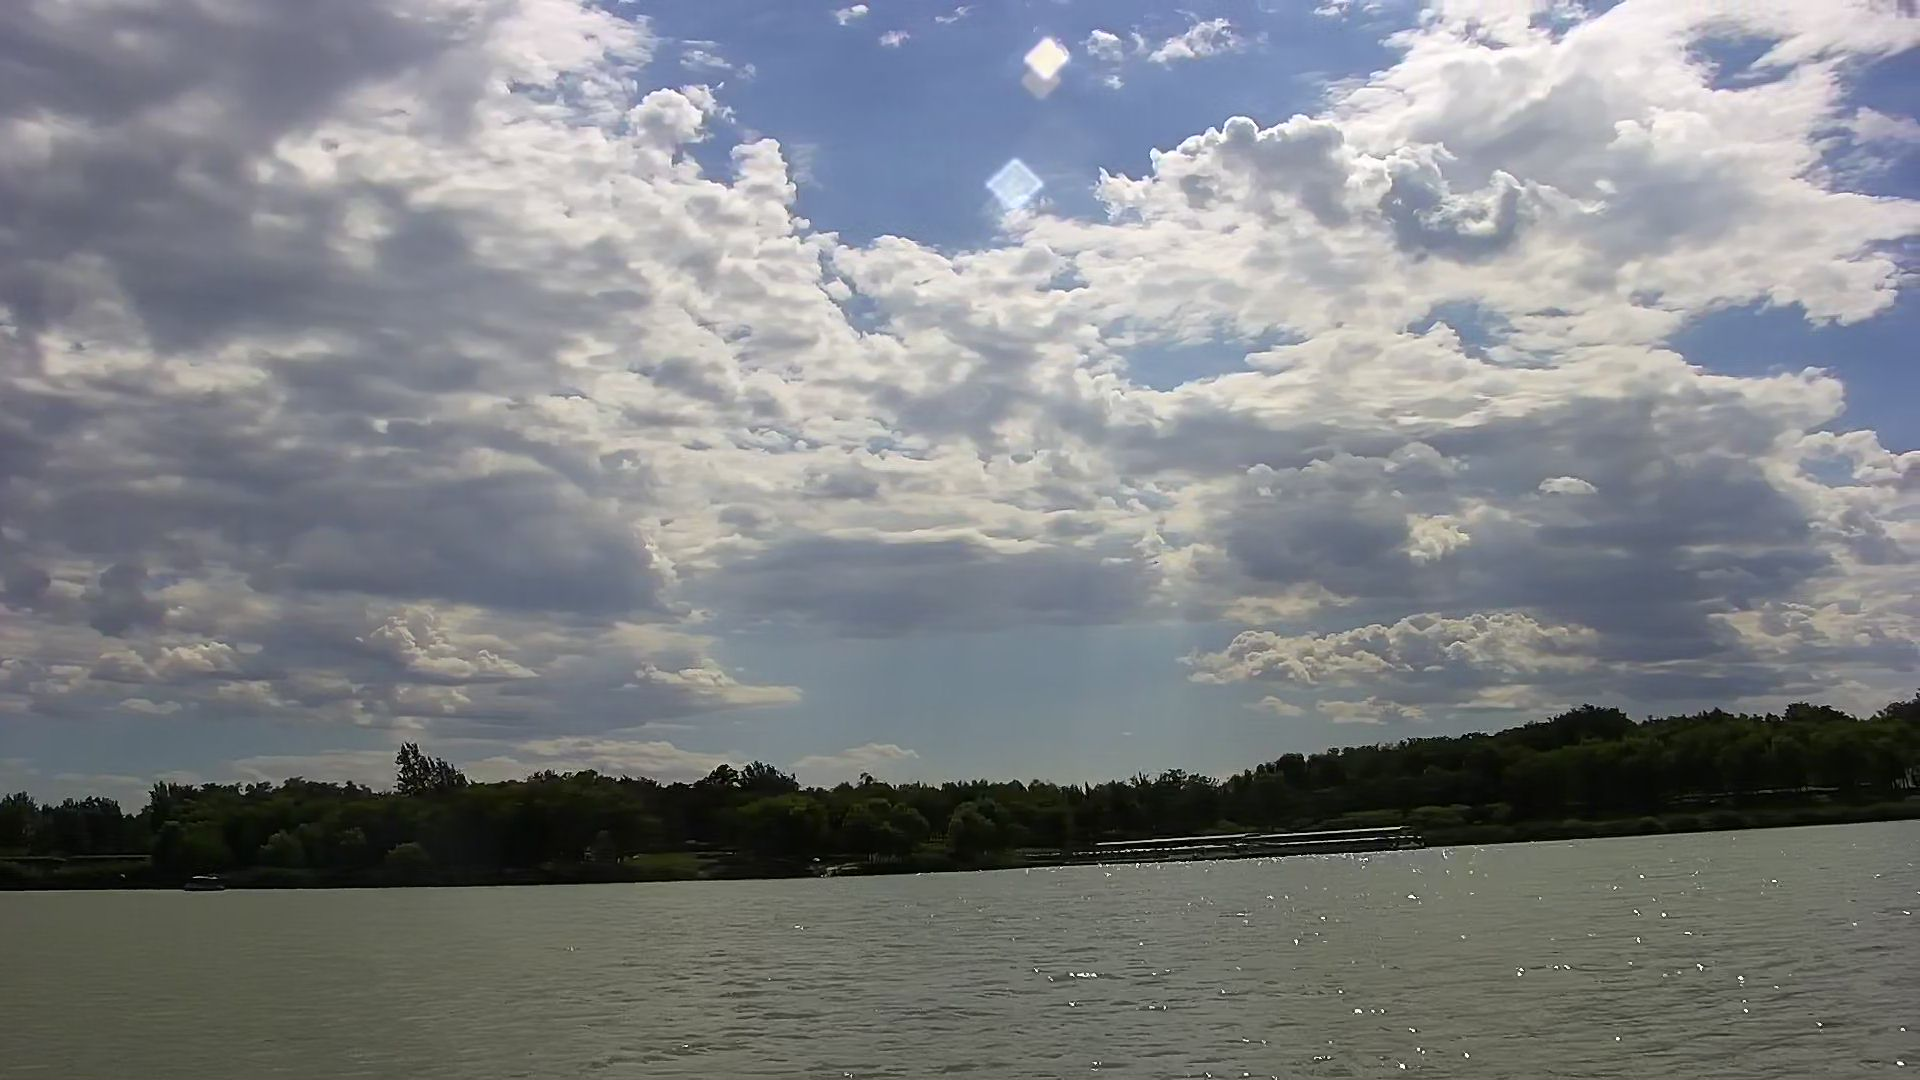harbor: (1065, 820, 1436, 861)
